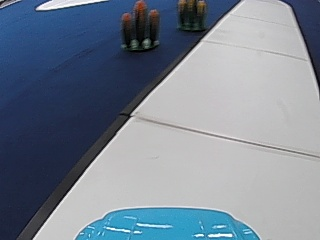corn: (120, 1, 161, 51), (178, 0, 207, 31)
